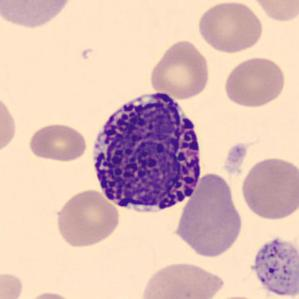Basophil: (86, 84, 210, 223)
Platelets: (245, 234, 299, 298), (223, 142, 248, 173)
RBC: (170, 170, 246, 260), (53, 187, 121, 249), (238, 155, 298, 222), (148, 38, 212, 100), (195, 0, 265, 54), (221, 54, 288, 109), (138, 258, 227, 299), (26, 120, 89, 164), (0, 0, 76, 30), (248, 0, 298, 24), (0, 90, 18, 156), (0, 270, 26, 299), (23, 289, 79, 299), (202, 293, 278, 299)
